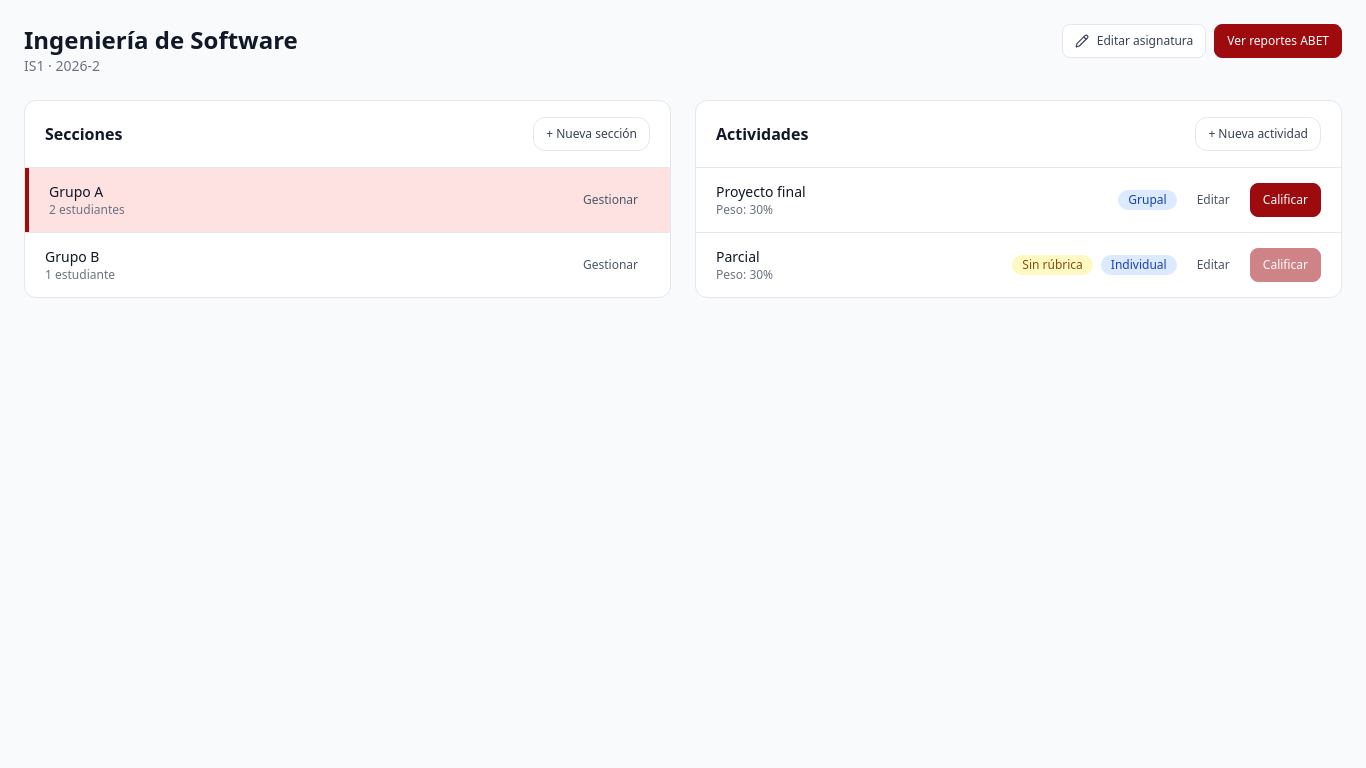
Scenario: CoursePage — crear sección y actividad › nueva sección: la agrega con 0 estudiantes y la deja seleccionada (Enter también crea)
Click the button "+ Nueva sección" at (592, 134), box top-left (533, 117), bottom-right (650, 151)
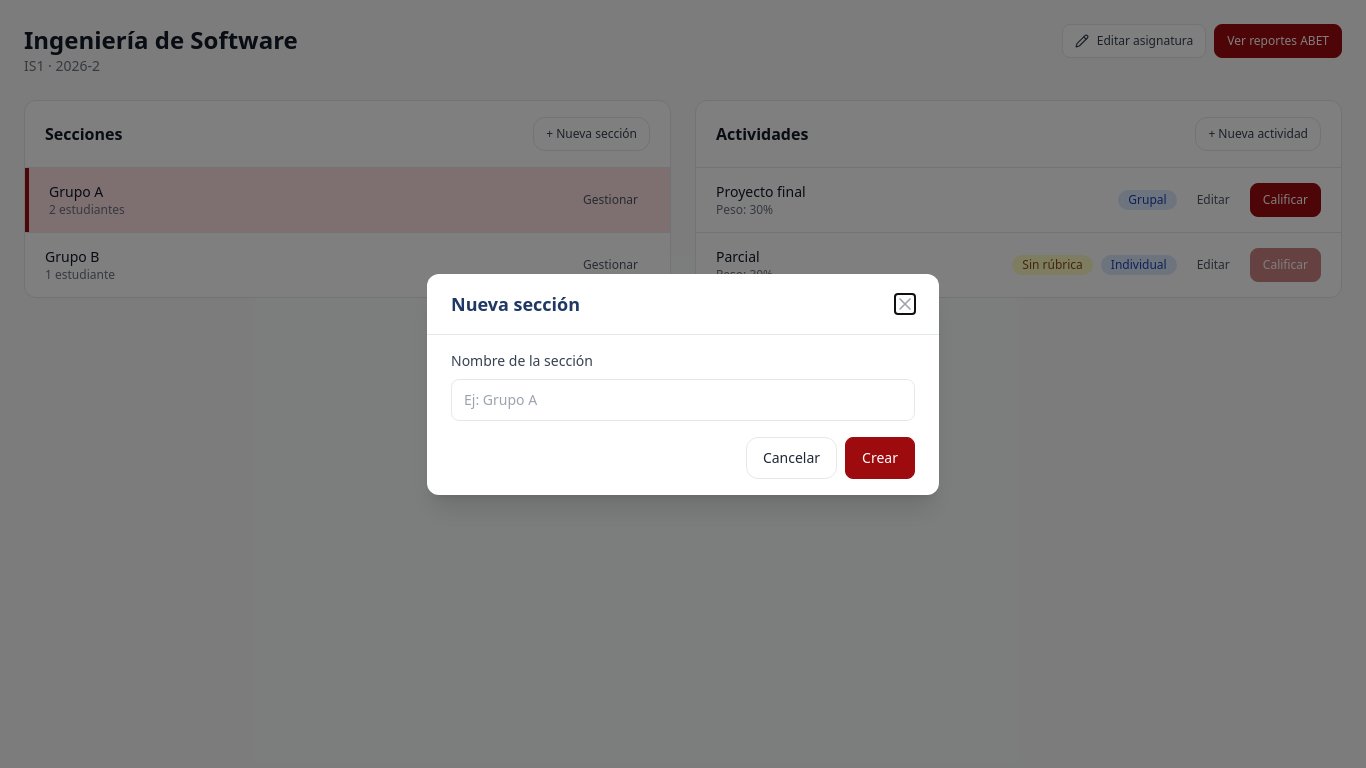
Note: Sin nombre no hace nada
Click the button "Crear" at (880, 458), box top-left (845, 436), bottom-right (915, 478)
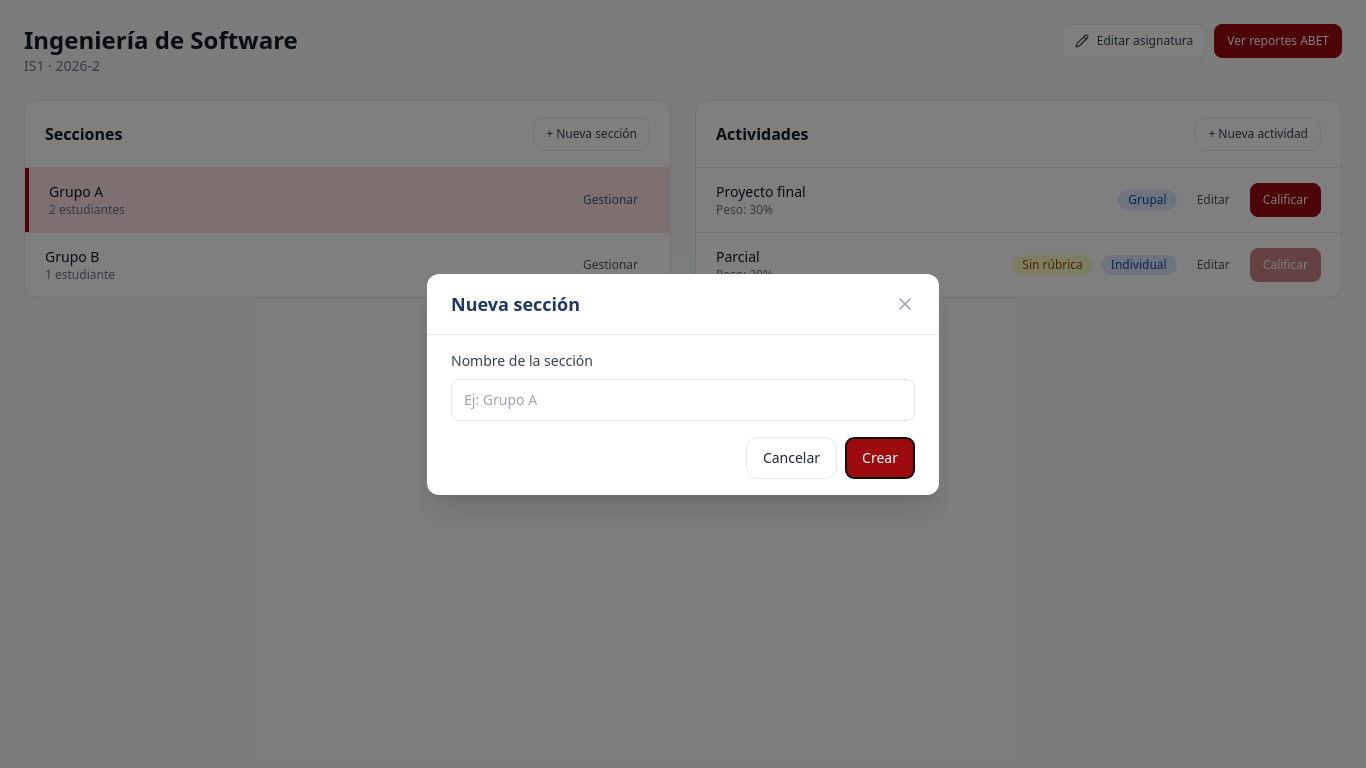
Type " Grupo C " into the field with placeholder "Ej: Grupo A" at (683, 400), box top-left (451, 378), bottom-right (915, 420)
Then press Enter
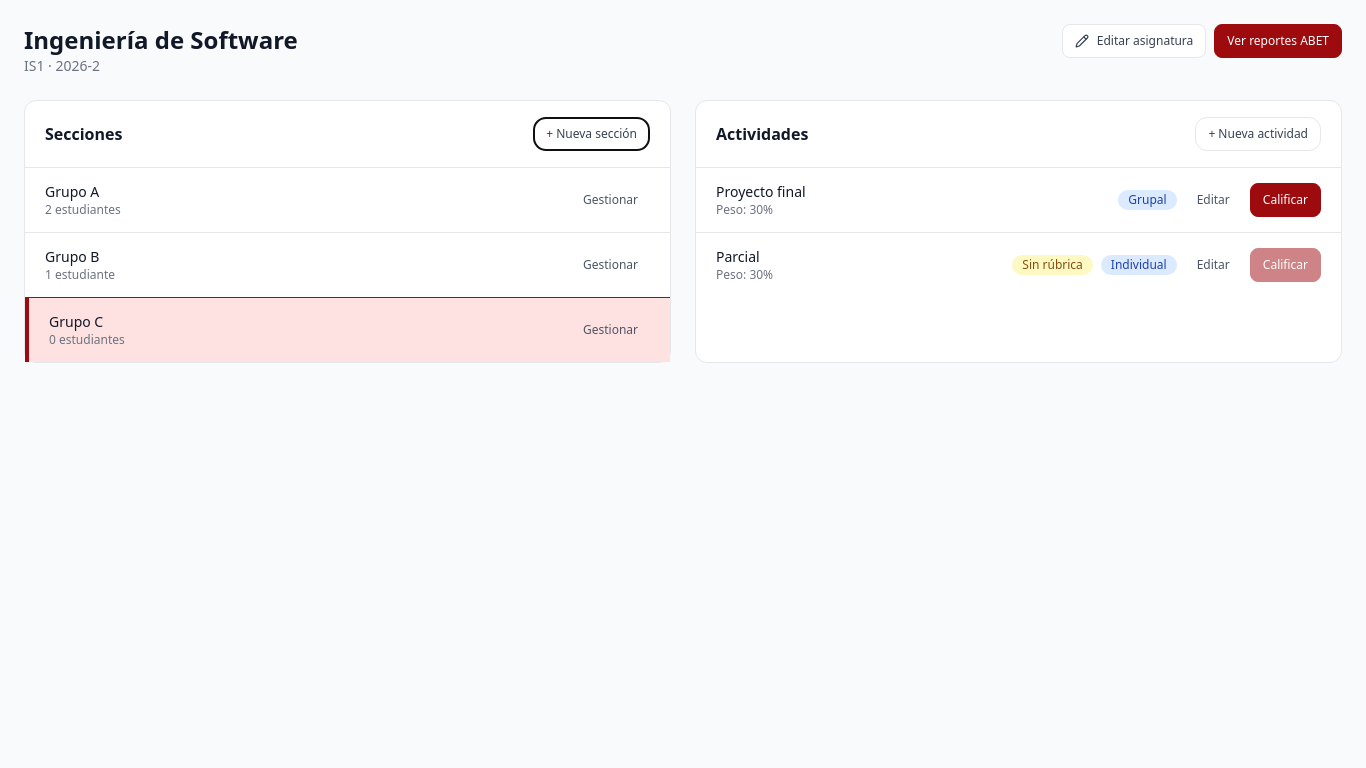
Expected: the dialog is gone
Expected: the text "0 estudiantes" is shown, top-left (49, 332), bottom-right (125, 348)
